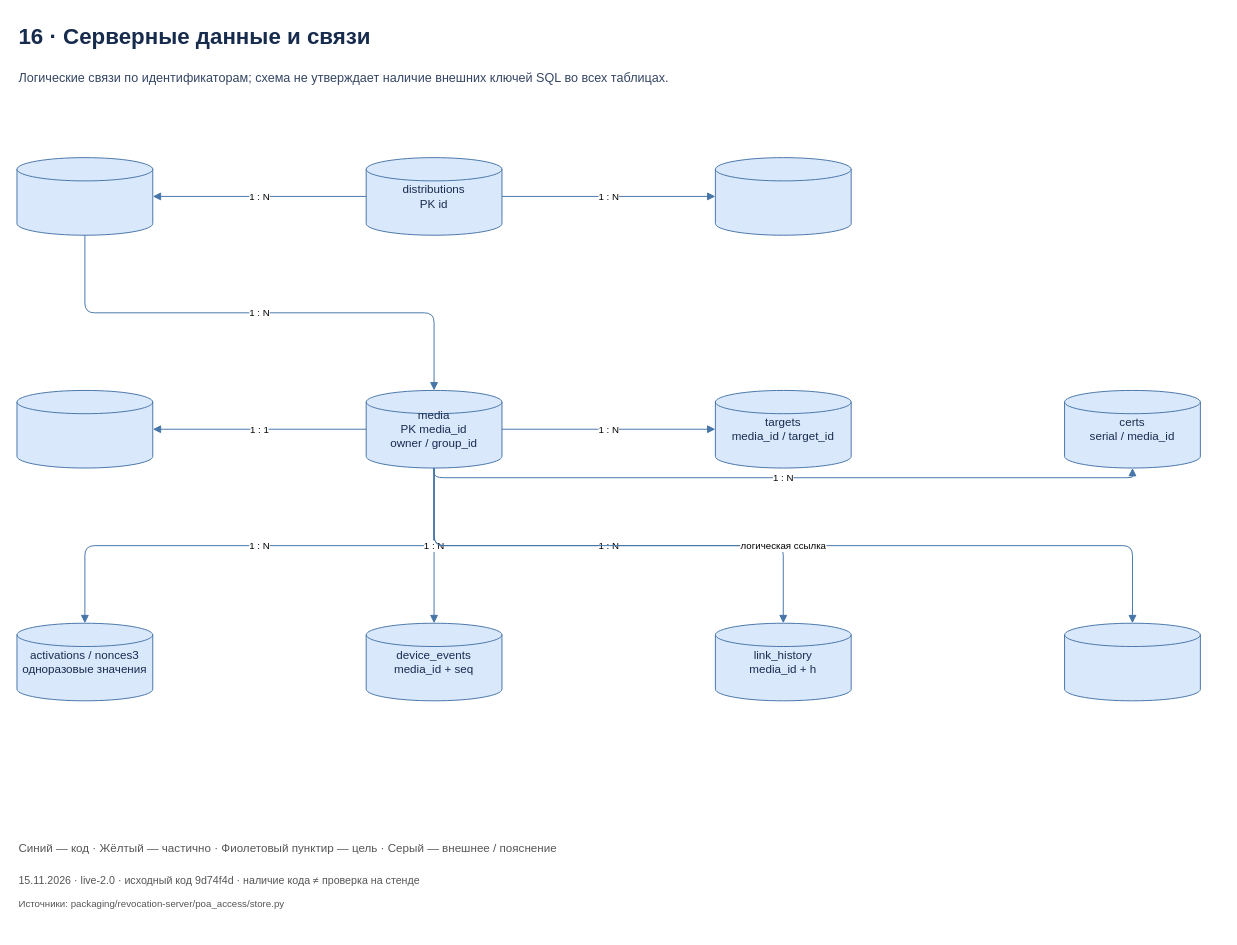
Some shapes in this 1237 by 945 pixel diagram are drawn without their labels. Here are the shapes that lost their labels. From the top down, the centre of each, then its label:
At [84,196]: "groups PK id parent / distribution".
At [782,196]: "releases distribution + serial".
At [84,428]: "access media_id TOTP / link / fails".
At [1132,661]: "server_log события сервера".
